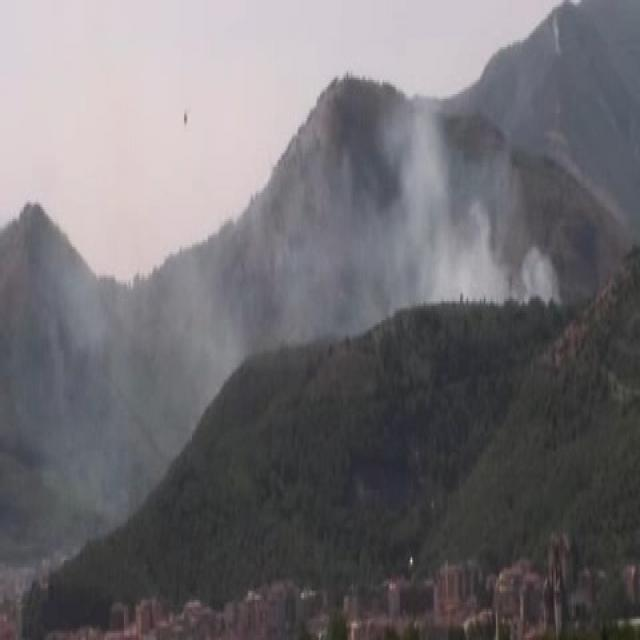smoke: (329, 95, 523, 312)
